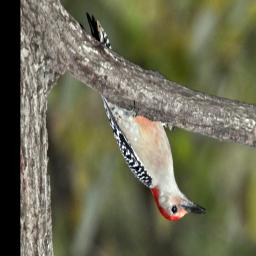Woodpecker: (86, 11, 208, 223)
